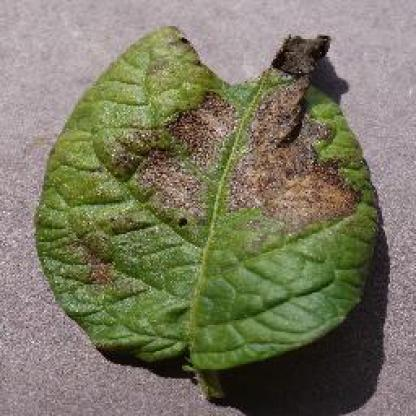bad leaf: (26, 15, 386, 372)
